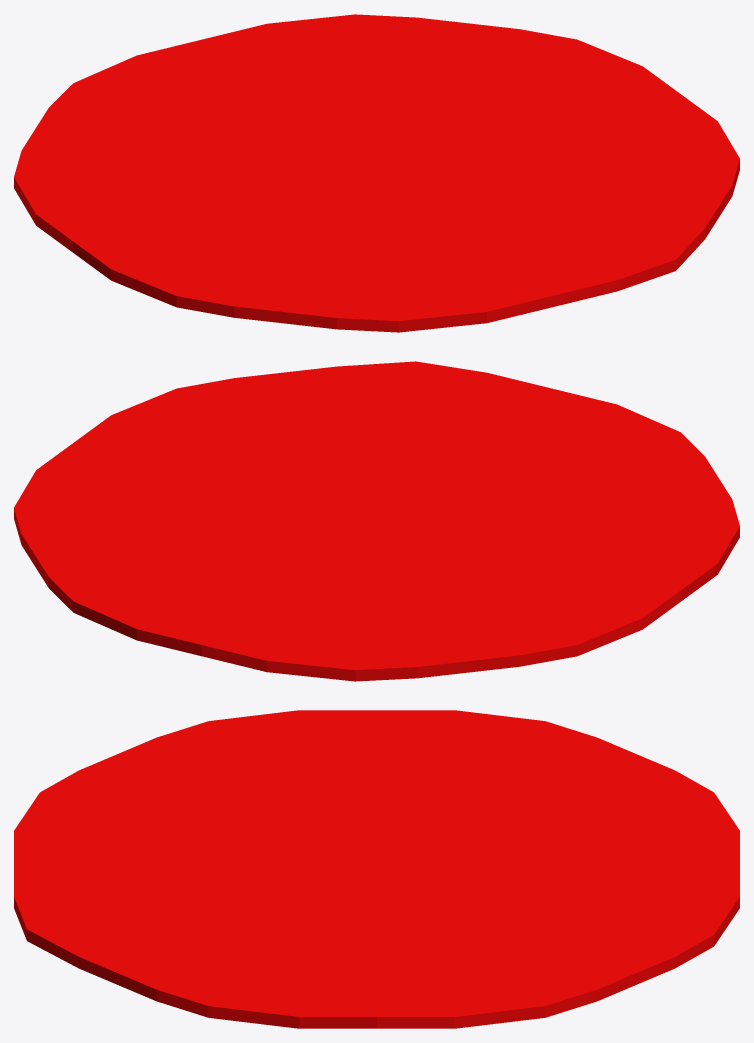
File: Red.obj
3 renders of one model, top to bottom at view 1: azimuth 30°, elevation 25°; view 2: azimuth 150°, elevation 25°; view 3: azimuth 270°, elevation 25°, orthographic. The views are drawn at different scales.
Visible parts, largest first — view 1: circle_red_6cm Shape13; view 2: circle_red_6cm Shape13; view 3: circle_red_6cm Shape13.
Boxes of the visible parts, x1,y1,x2,y2 form: circle_red_6cm Shape13: [14, 14, 739, 332]; circle_red_6cm Shape13: [14, 361, 739, 681]; circle_red_6cm Shape13: [14, 710, 739, 1028].
Bounding box in the file's own units: 0.056 × 0.001 × 0.056.
